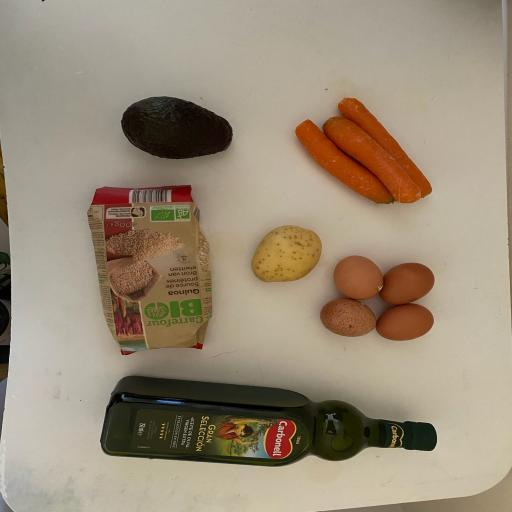avocado: (119, 92, 234, 162)
carrot: (336, 95, 436, 200), (292, 117, 397, 206), (322, 114, 422, 207)
egg: (376, 259, 437, 306), (374, 301, 436, 343), (332, 254, 386, 302), (318, 298, 378, 340)
olive_oil: (96, 373, 440, 470)
potato: (246, 222, 324, 287)
quinoa: (86, 183, 216, 357)
